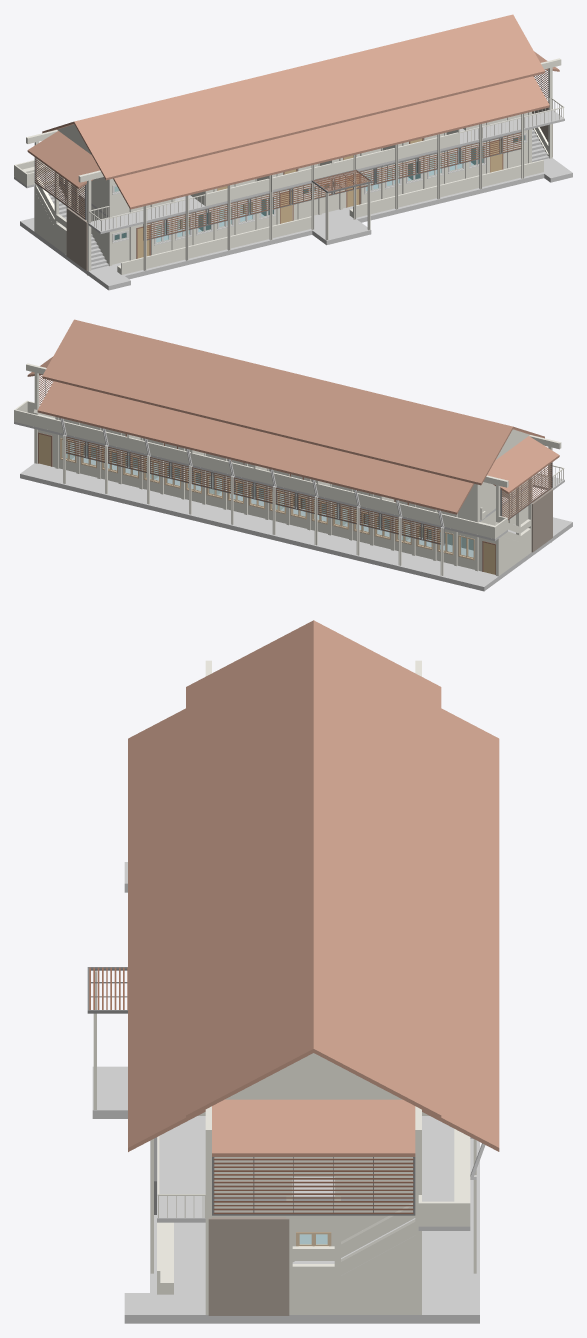
3 views of the same model, one above another, from view 1: azimuth 30°, elevation 25°; view 2: azimuth 150°, elevation 25°; view 3: azimuth 270°, elevation 25° (orthographic). The views are drawn at different scales.
Parts seen in each view (by area): view 1: EN110RF, EN11001, EN11002; view 2: EN110RF, EN11001, EN11002; view 3: EN110RF, EN11001, EN11002.
Part boxes in pixels (<box>): EN110RF: <box>26,14,561,209</box>; EN11001: <box>20,108,572,290</box>; EN11002: <box>14,67,564,233</box>; EN110RF: <box>26,319,561,514</box>; EN11001: <box>20,407,572,591</box>; EN11002: <box>14,372,564,540</box>; EN110RF: <box>87,620,499,1156</box>; EN11001: <box>92,862,479,1323</box>; EN11002: <box>150,1112,485,1230</box>.
Bounding box in the file's own units: 33.86 × 8.9 × 12.55.
